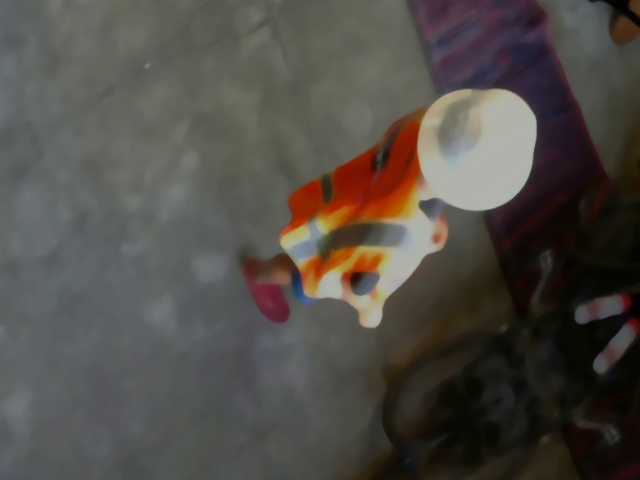eight: (436, 97, 490, 163)
